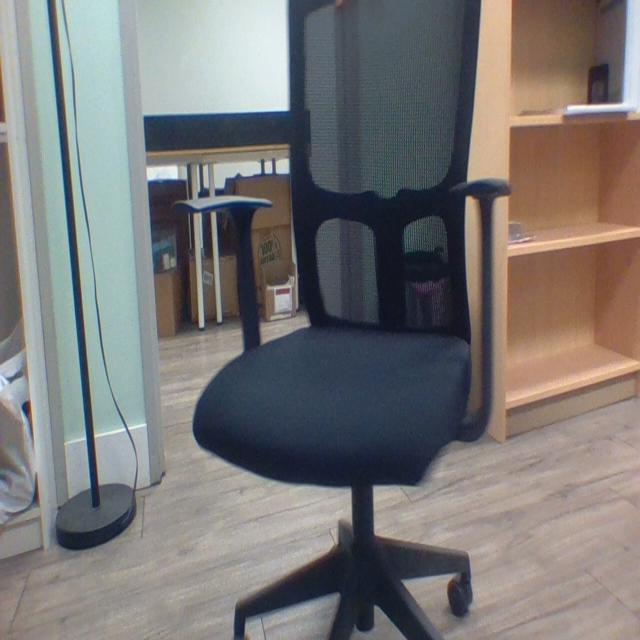black-chair: (178, 0, 528, 639)
